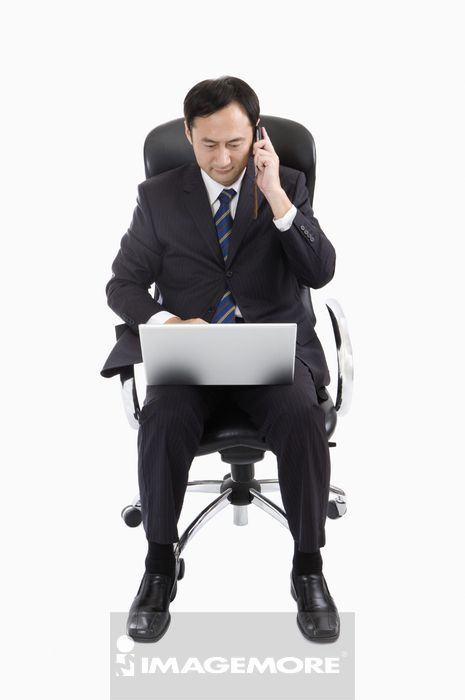phone: (254, 129, 260, 178)
talk: (199, 123, 281, 195)
